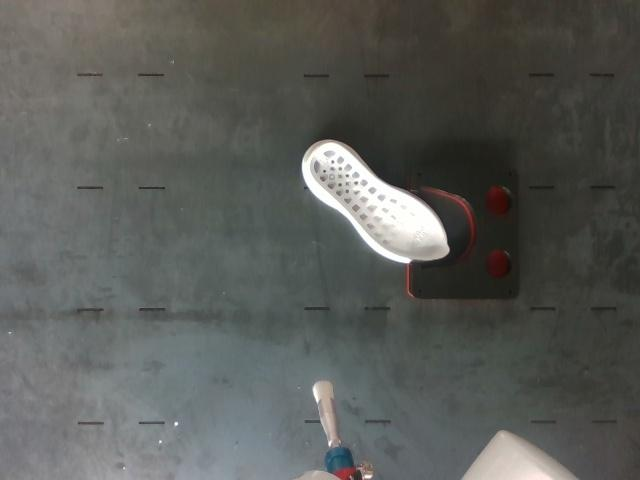shoes: (310, 141, 449, 260)
